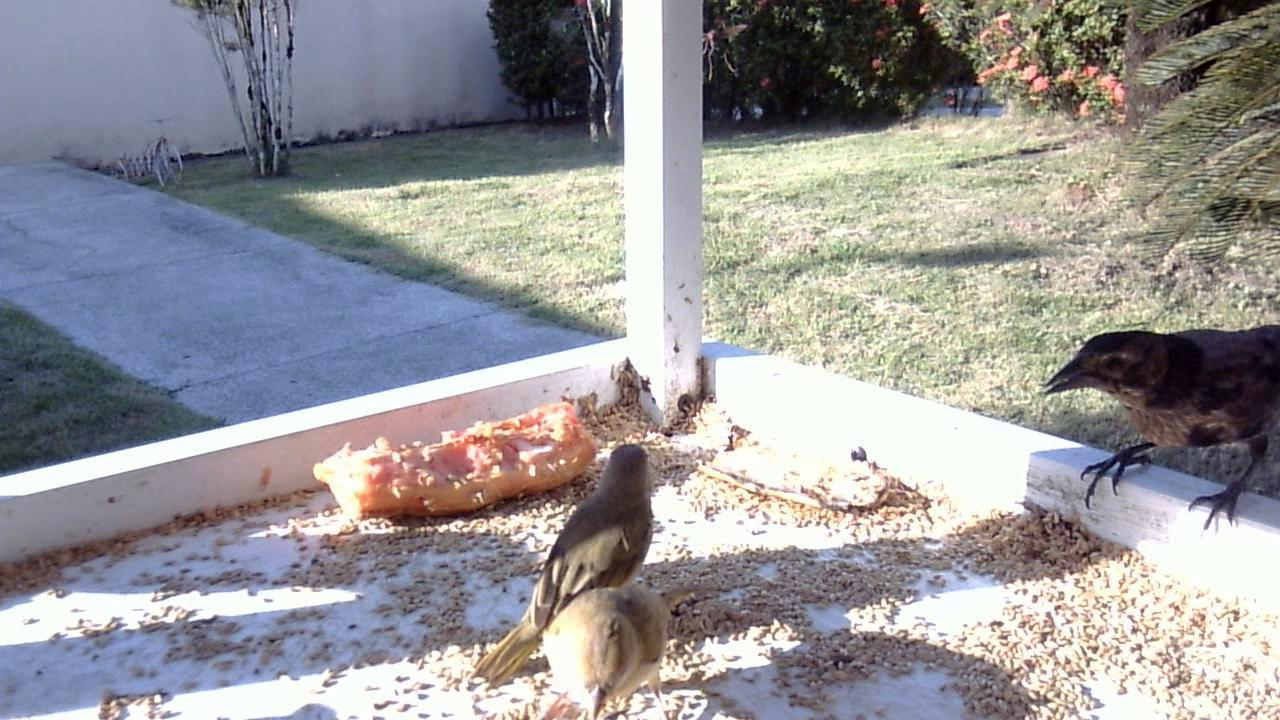canario_do_amazonas: (461, 430, 666, 688), (498, 581, 690, 720)
chupim: (1032, 321, 1275, 538)
